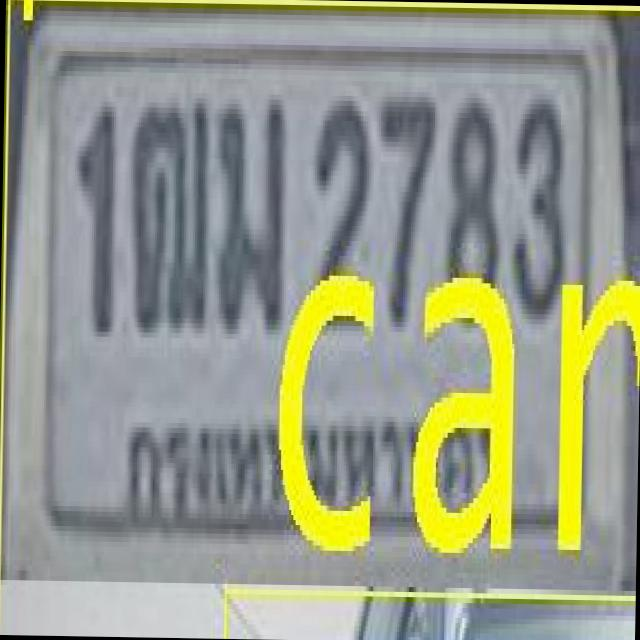license_plate: (3, 0, 640, 598)
